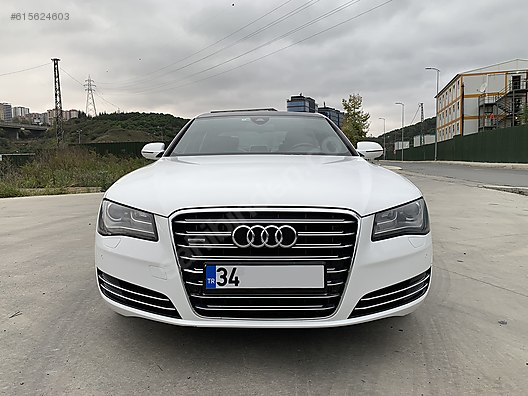audi: (229, 219, 305, 252)
